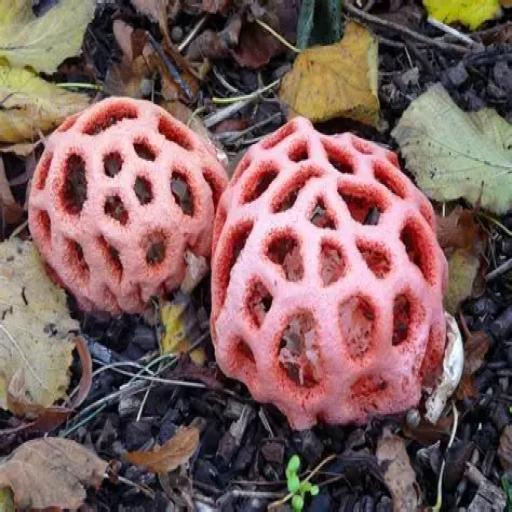mushroom: (208, 116, 459, 431), (24, 89, 229, 320)
